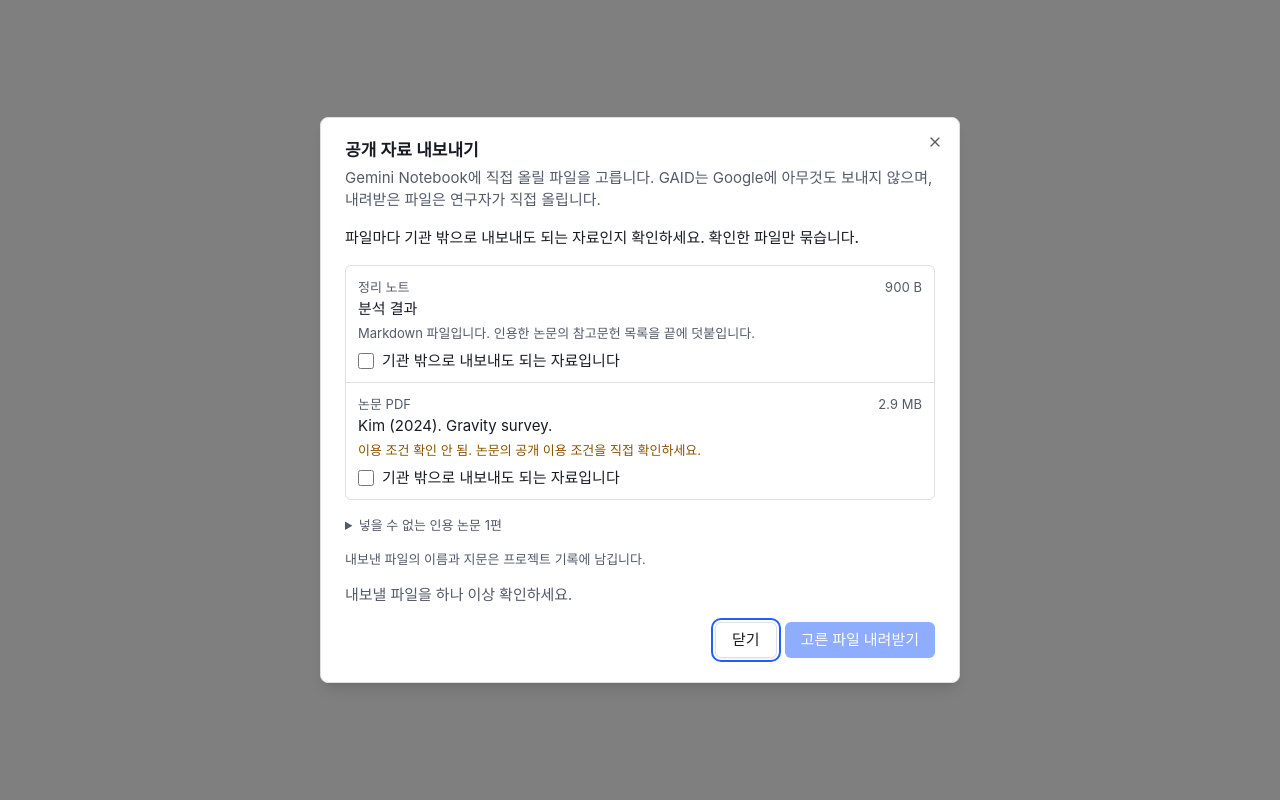
it: asks for each file's confirmation before the public export and sends only confirmed files
Expected: the checkbox labelled "기관 밖으로 내보내도 되는 자료입니다" below "정리 노트" is not checked, [358,353,374,369]
Expected: the text "이용 조건 확인 안 됨. 논문의 공개 이용 조건을 직접 확인하세요." is shown, [358,442,701,458]
Click the checkbox labelled "기관 밖으로 내보내도 되는 자료입니다" below "논문 PDF" at (366, 478), box [358,470,374,486]
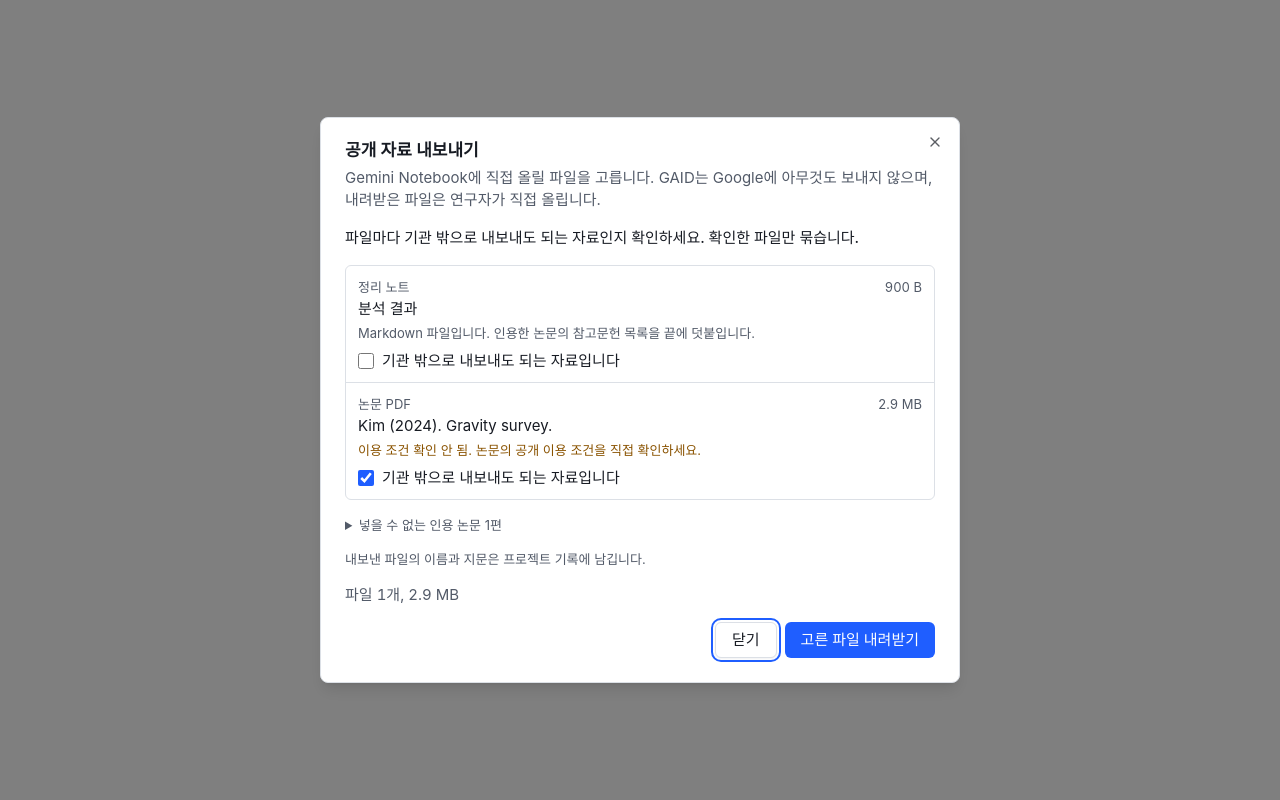
Expected: the text "파일 1개, 2.9 MB" is shown, [345,585,459,604]
Click the button "고른 파일 내려받기" at (860, 640), box [785,622,935,658]
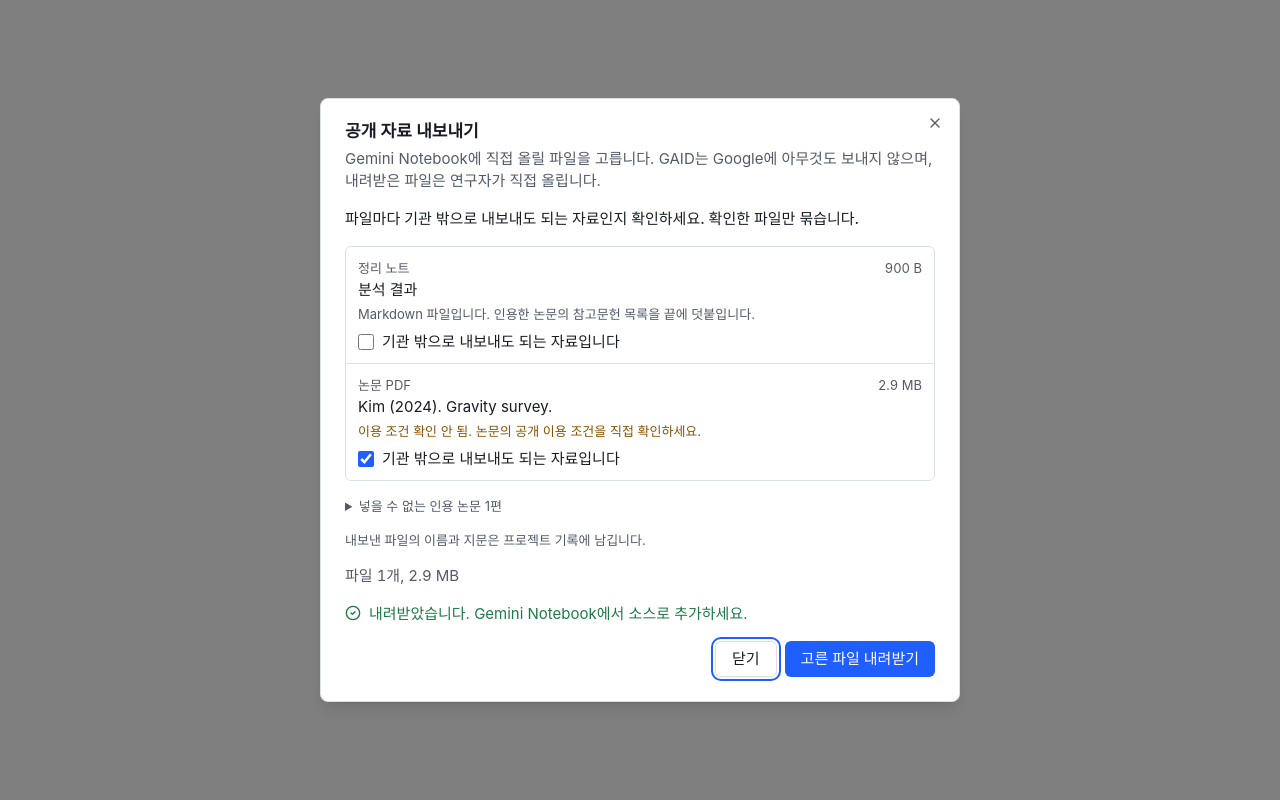
Expected: the text "내려받았습니다. Gemini Notebook에서 소스로 추가하세요." is shown, [345,604,748,623]
